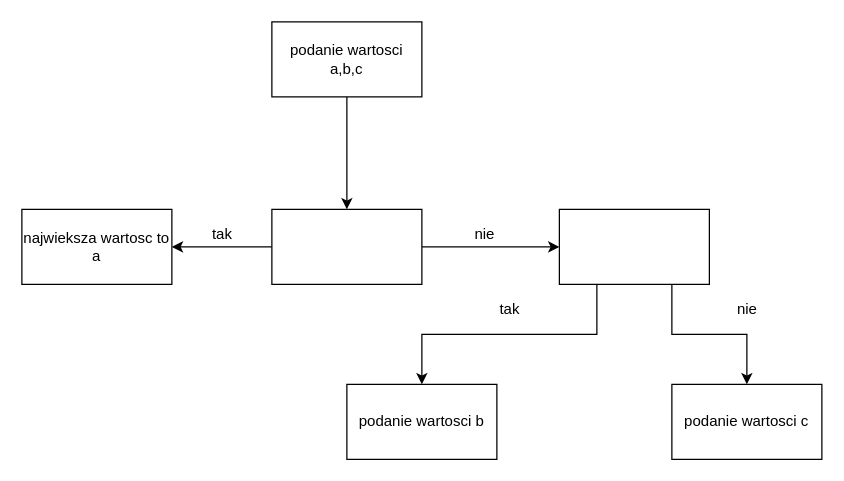
This 844x481 diagram has some shape labels left out. Each missing label, with the centre of its shape:
warunek sprawdzajacy a>c i a>b: point (346, 246)
warunek sprawdzajacy b > a i b > c: point (633, 246)
